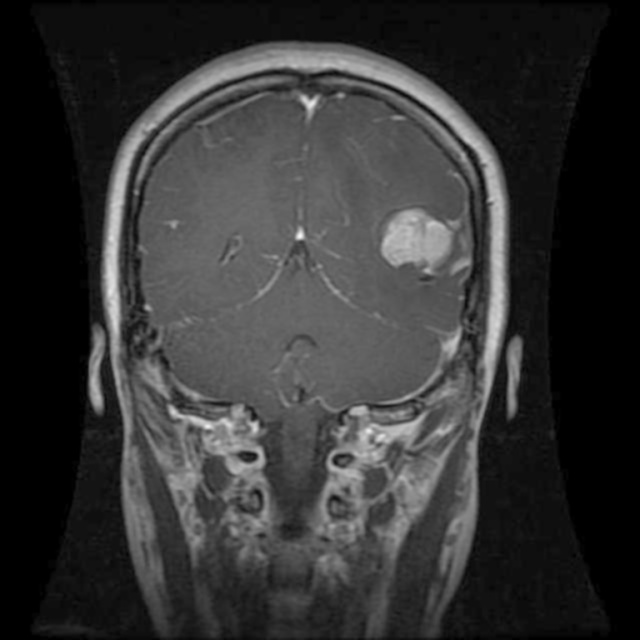pituitary tumor: (380, 212, 459, 266)
